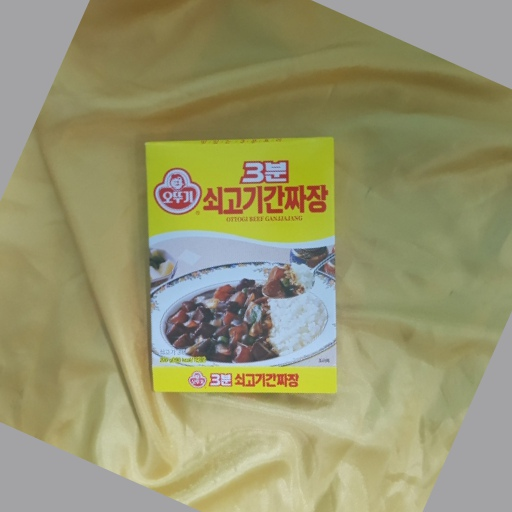Paper_0: (131, 134, 348, 395)
